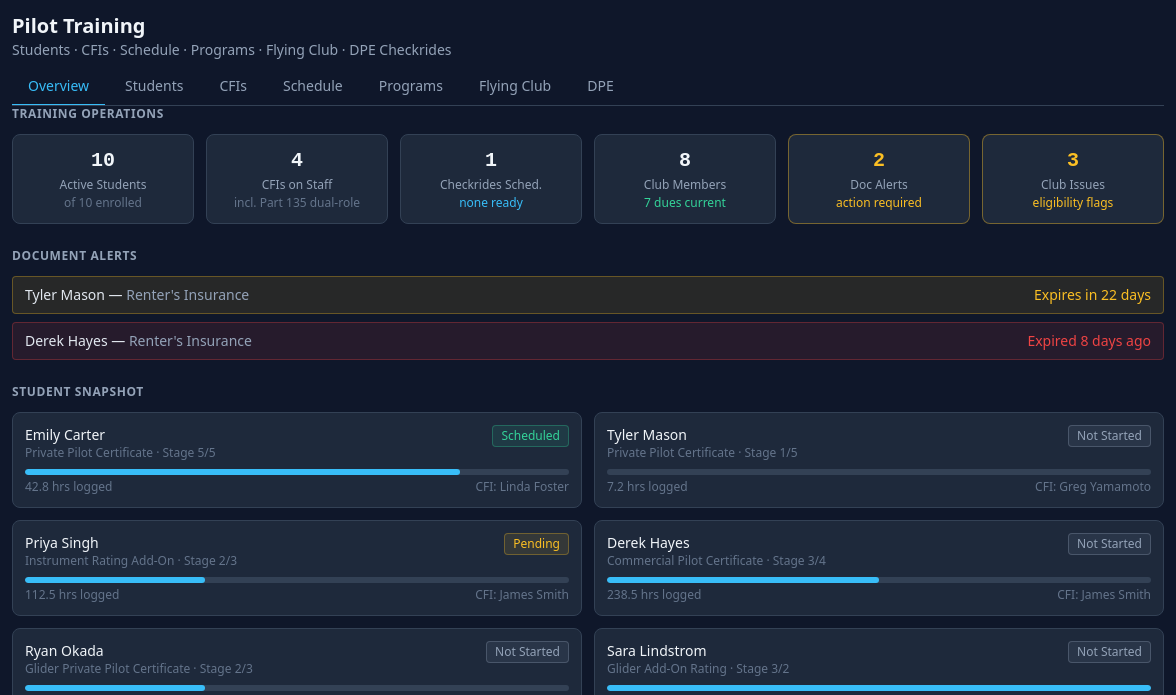
Scenario: Training component › clicking Students tab shows roster
Click the button "Students". click: coordinates (154, 87)
box: [109,68,199,106]
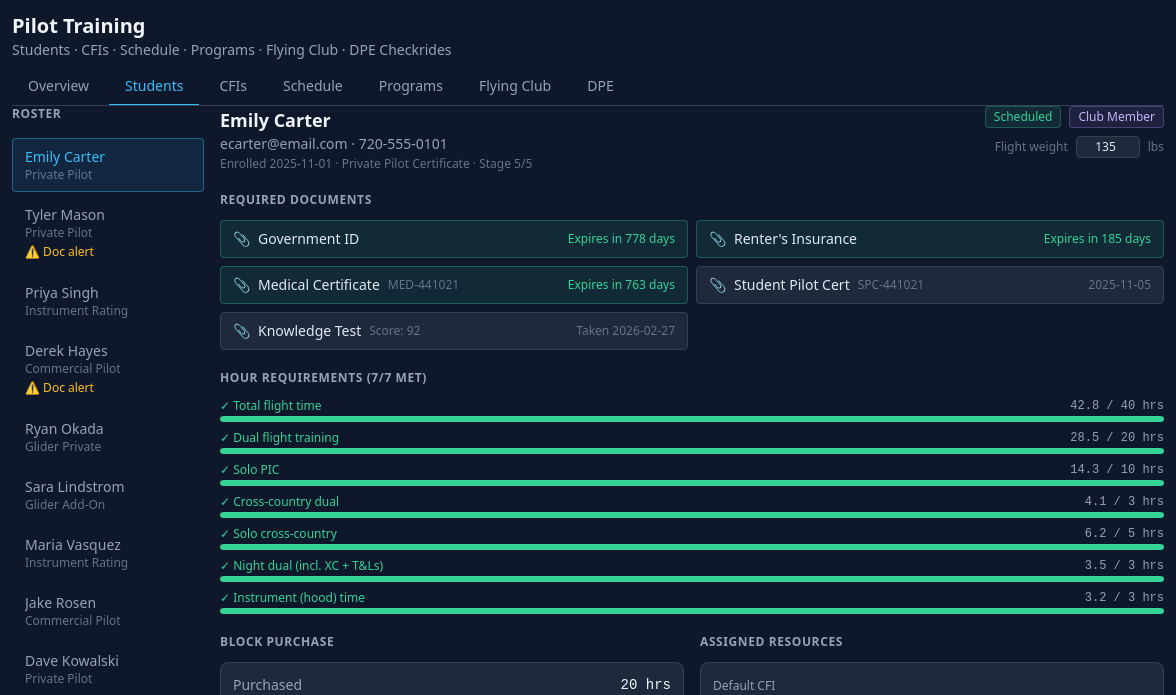
Expected: the heading "Roster" is shown, [12,105,61,122]
Expected: the heading "Required Documents" is shown, [220,191,372,208]
